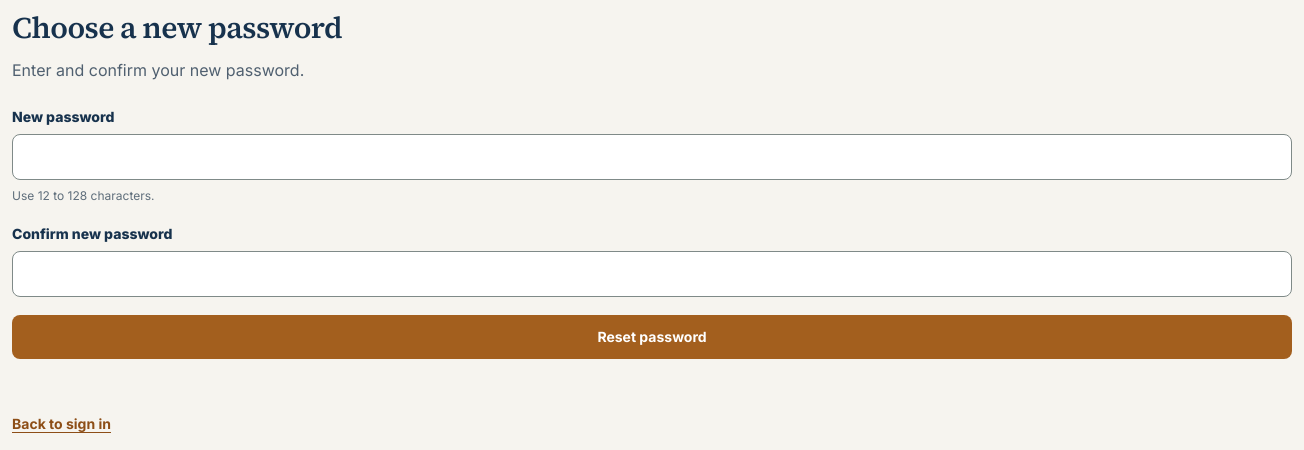
AuthForm › validates password policy before requesting completion
Type "short" into the password field labelled "New password" at [652, 157], box [12,134,1292,180]
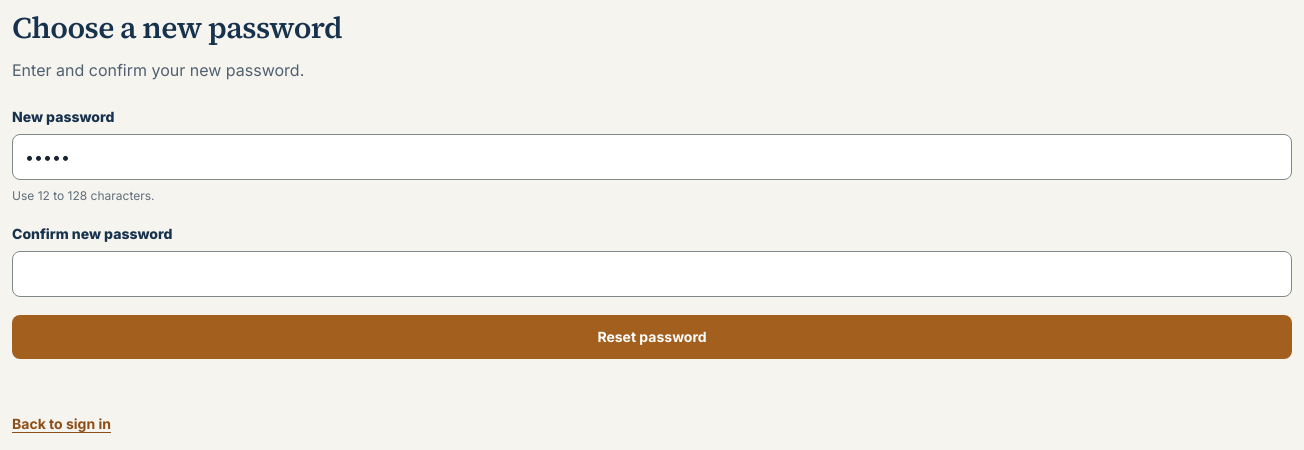
Type "short" into the password field labelled "Confirm new password" at [652, 274], box [12,251,1292,297]
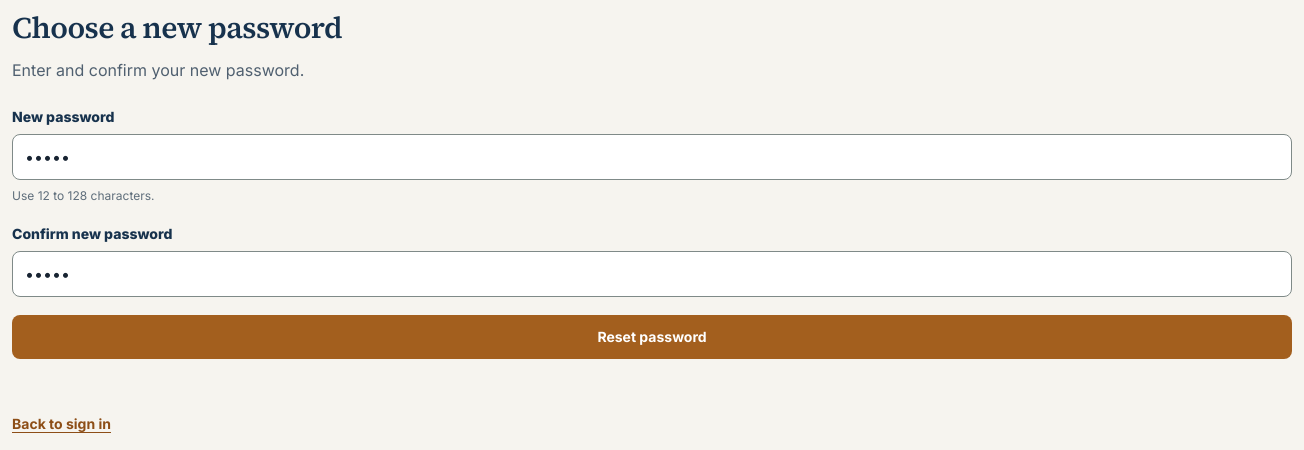
Submit the form
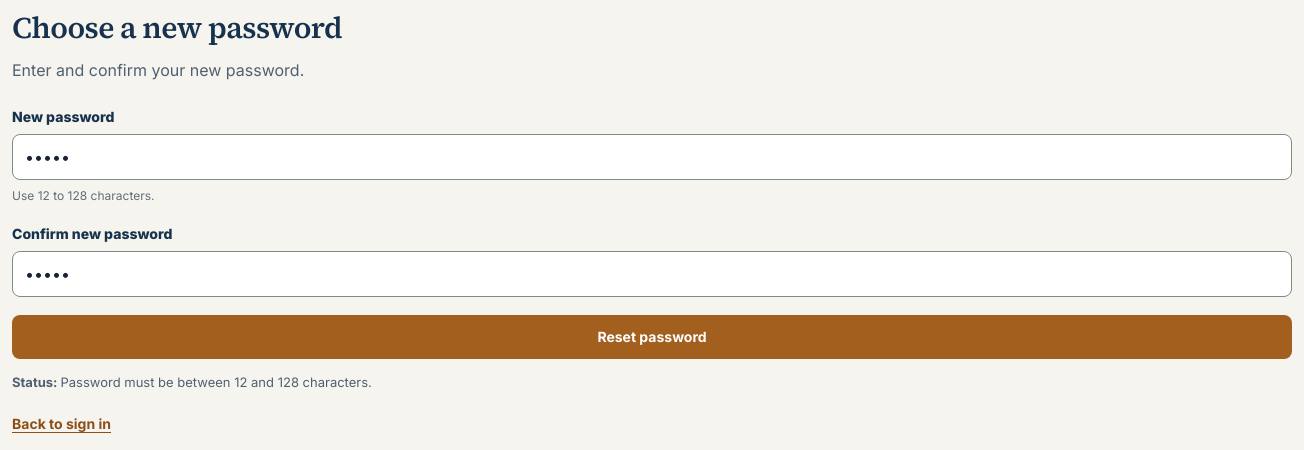
Expected: the text "Password must be between 12 and 128 characters." is shown, [60,374,372,390]
